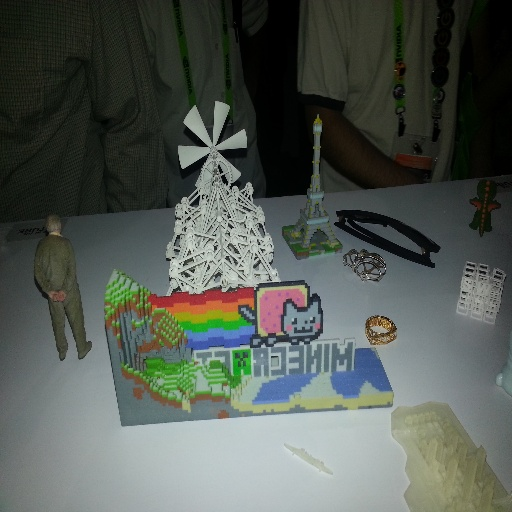hand: (49, 287, 61, 302), (55, 291, 64, 304)
